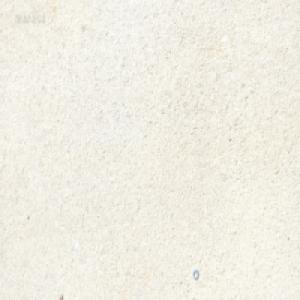Washer: (193, 268, 199, 280)
